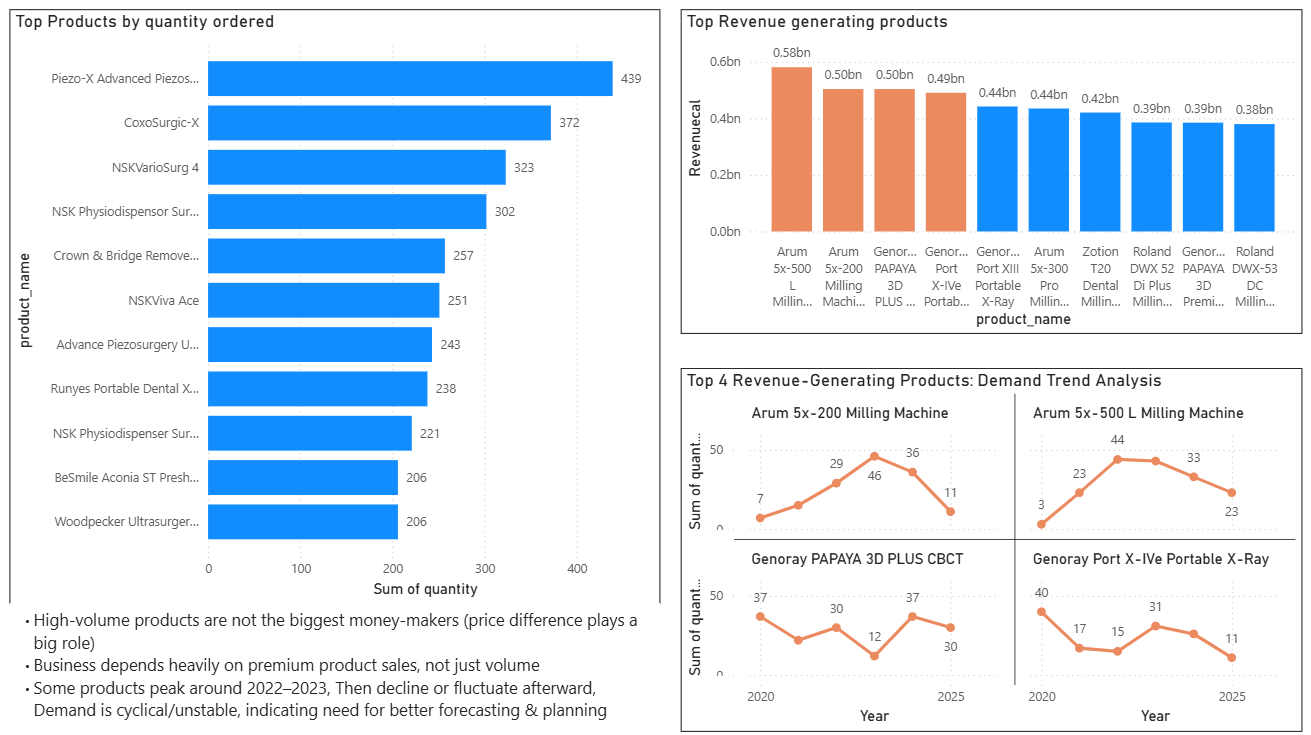

The page's visual inventory and layout, read from the dashboard file:
{"tool":"powerbi","page":{"name":"Product Performance","canvas":[1280,720],"ordinal":4},"visuals":[{"type":"barChart","title":"Top Products by quantity ordered","fields":{"Category":["Orders_cleaned.product_name"],"Y":["Sum(Orders_cleaned.quantity)"]},"box":[16.2,15,623.8,570],"z":0},{"type":"lineChart","title":"Top 4 Revenue-Generating Products: Demand Trend Analysis","fields":{"Category":["datetable.Year"],"Rows":["Orders_cleaned.product_name"],"Y":["Sum(Orders_cleaned.quantity)"]},"box":[660,360,596.2,348.8],"z":1000},{"type":"columnChart","title":"Top Revenue generating products","fields":{"Category":["Orders_cleaned.product_name"],"Y":["high_value_product_categories.Revenuecal"]},"box":[660,15,596.2,311.2],"z":2000},{"type":"textbox","box":[16.2,585,623.8,123.8],"z":3000}]}

Visuals, with their boxes in screenshot pixels (x1, y1, x2, y2), scaled from the page's 1280x720 canvas onto the 1311x735 screenshot:
"Top Products by quantity ordered" barChart: x1=17 y1=15 x2=656 y2=597
"Top 4 Revenue-Generating Products: Demand Trend Analysis" lineChart: x1=676 y1=368 x2=1287 y2=724
"Top Revenue generating products" columnChart: x1=676 y1=15 x2=1287 y2=333
textbox: x1=17 y1=597 x2=656 y2=724
